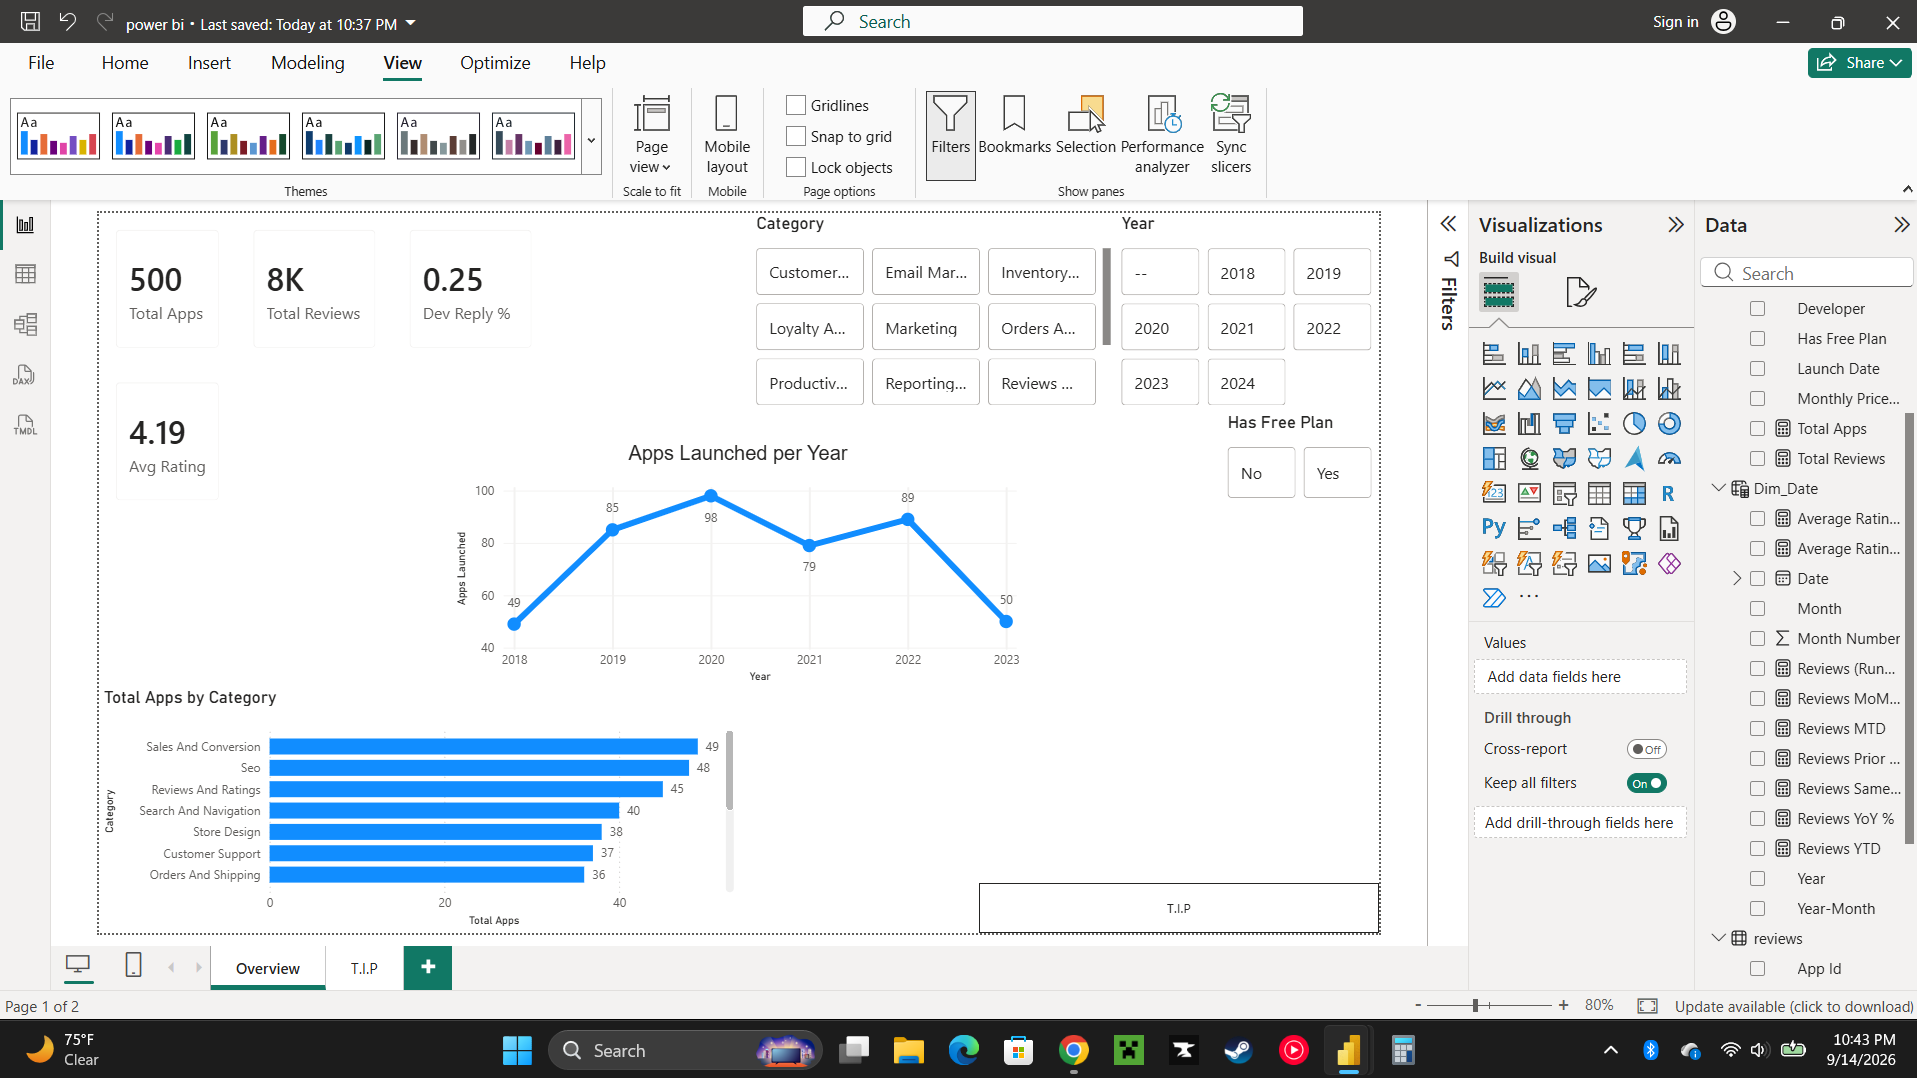

Layout of this report page (visuals, bound fields, positions):
{"tool":"powerbi","page":{"name":"Overview","canvas":[1280,720],"ordinal":0},"visuals":[{"type":"cardVisual","fields":{"Data":["apps.total_apps"]},"box":[0,0,137.5,152.5],"z":0},{"type":"cardVisual","fields":{"Data":["apps.total_reviews"]},"box":[137.2,0,156.4,152.3],"z":1},{"type":"cardVisual","fields":{"Data":["apps.avg_rating"]},"box":[0,152.3,137.2,152.3],"z":2},{"type":"cardVisual","fields":{"Data":["apps.dev_reply_%"]},"box":[294.3,0,156,152],"z":3},{"type":"advancedSlicerVisual","fields":{"Values":["Dim_Date.Year"]},"box":[1017.1,0,262.9,198.6],"z":4},{"type":"advancedSlicerVisual","fields":{"Values":["apps.category_name"]},"box":[652.9,0,364.3,198.6],"z":5},{"type":"advancedSlicerVisual","fields":{"Values":["apps.has_free_plan"]},"box":[1124.3,198.6,155.7,91.4],"z":6},{"type":"lineChart","title":"Apps Launched per Year","fields":{"Y":["reviews.apps launched"],"Category":["Dim_Date.Year"]},"box":[352.9,228.6,572.9,245.7],"z":7},{"type":"barChart","fields":{"Category":["apps.category_name"],"Y":["apps.total_apps"]},"box":[0,474.3,640,244.3],"z":8},{"type":"pageNavigator","box":[880,670,400,50],"z":9}]}

Visuals, with their boxes on the page's 1280x720 design canvas (x1, y1, x2, y2). These are canvas units, not pixel positions in the 1917x1078 screenshot, which may show the page scaled, cropped or inside an application window:
cardVisual - apps.total_apps: 0, 0, 138, 152
cardVisual - apps.total_reviews: 137, 0, 294, 152
cardVisual - apps.avg_rating: 0, 152, 137, 305
cardVisual - apps.dev_reply_%: 294, 0, 450, 152
advancedSlicerVisual - Dim_Date.Year: 1017, 0, 1280, 199
advancedSlicerVisual - apps.category_name: 653, 0, 1017, 199
advancedSlicerVisual - apps.has_free_plan: 1124, 199, 1280, 290
"Apps Launched per Year" lineChart: 353, 229, 926, 474
barChart - apps.category_name x apps.total_apps: 0, 474, 640, 719
pageNavigator: 880, 670, 1280, 720
